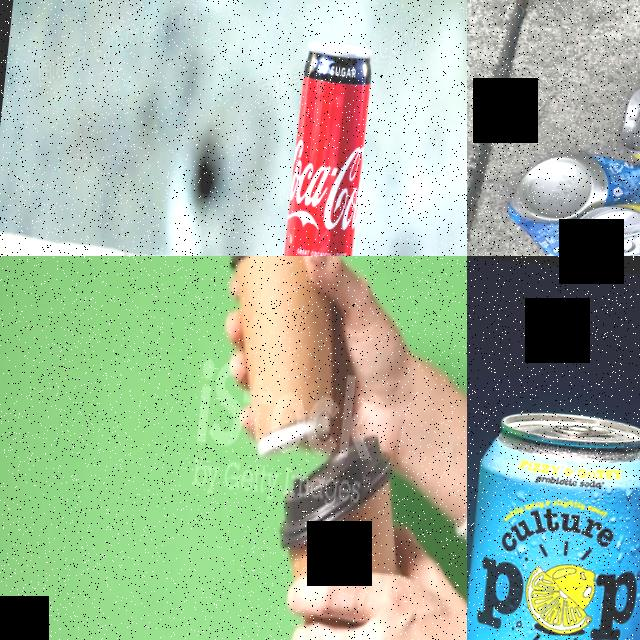can: (467, 405, 640, 640), (274, 35, 375, 256)
cup: (259, 422, 417, 640), (211, 256, 359, 470)
